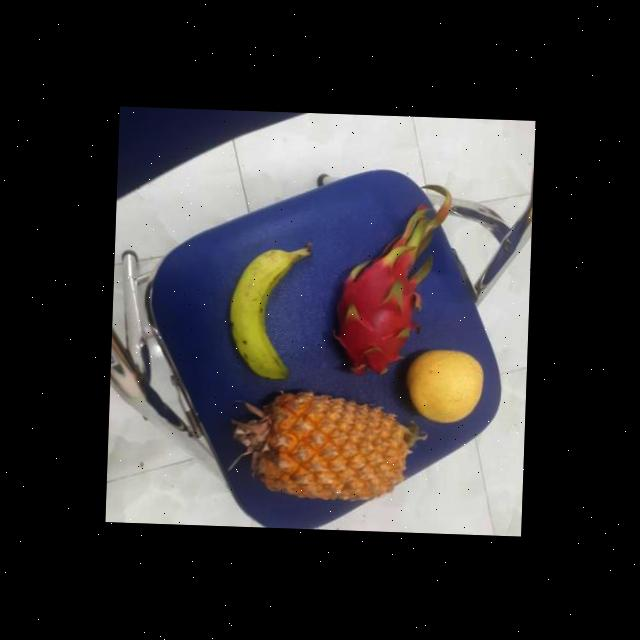Sakya fruit: (240, 387, 418, 501)
banana: (227, 237, 313, 378)
pear: (404, 343, 484, 426)
pitaya: (329, 245, 422, 374)
